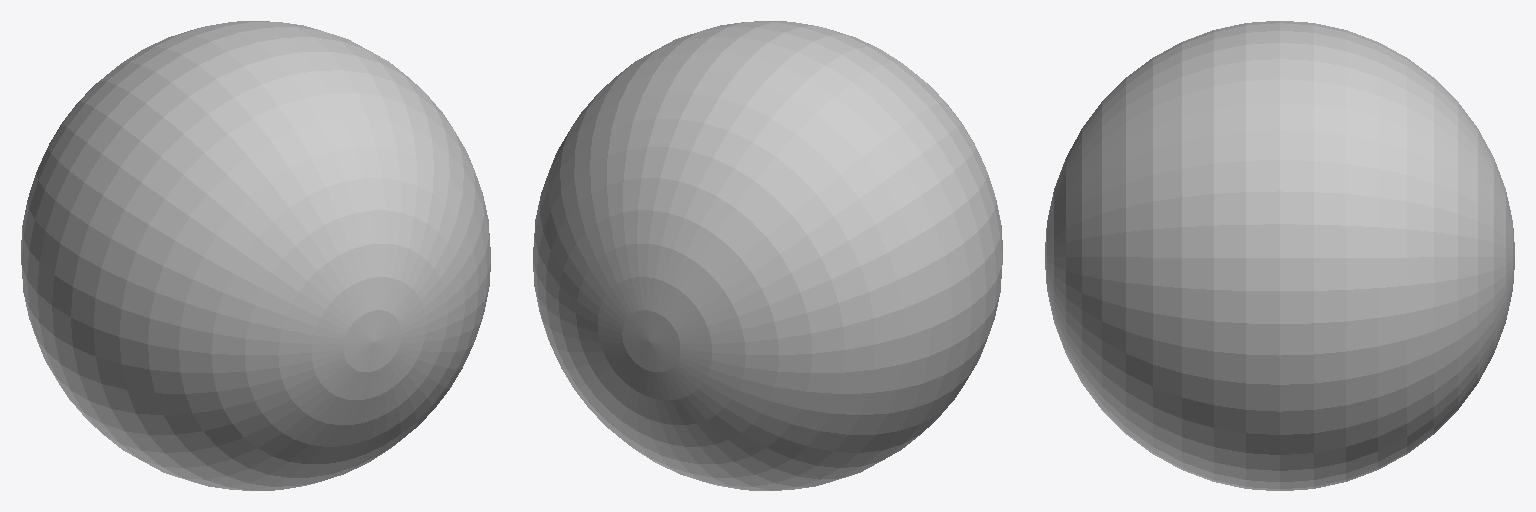
The model's file is deadworld.obj.
3 renders of one model, left to right at view 1: azimuth 30°, elevation 25°; view 2: azimuth 150°, elevation 25°; view 3: azimuth 270°, elevation 25°, orthographic.
Parts seen in each view (by area): view 1: deadplanet; view 2: deadplanet; view 3: deadplanet.
Part boxes in pixels (left/top/right/bottom): deadplanet: left=21, top=21, right=490, bottom=490; deadplanet: left=533, top=21, right=1002, bottom=490; deadplanet: left=1045, top=21, right=1514, bottom=490.
Size of the model in its own units: 140 by 140 by 140.